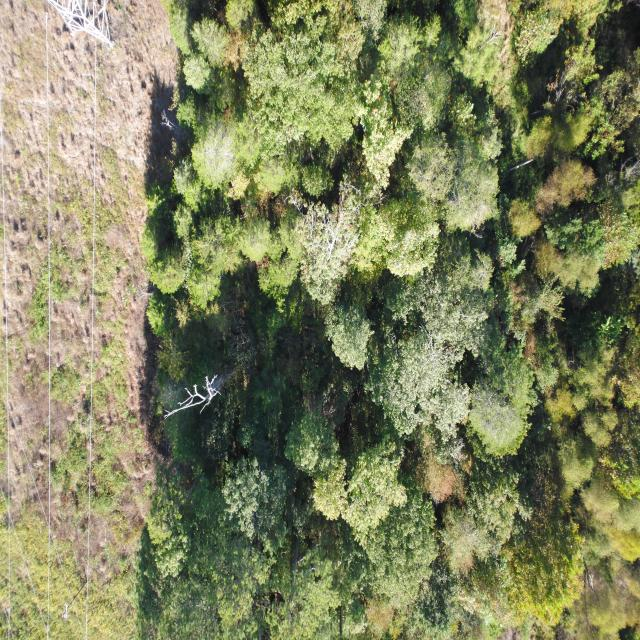Area of Interest: (166, 8, 632, 631)
